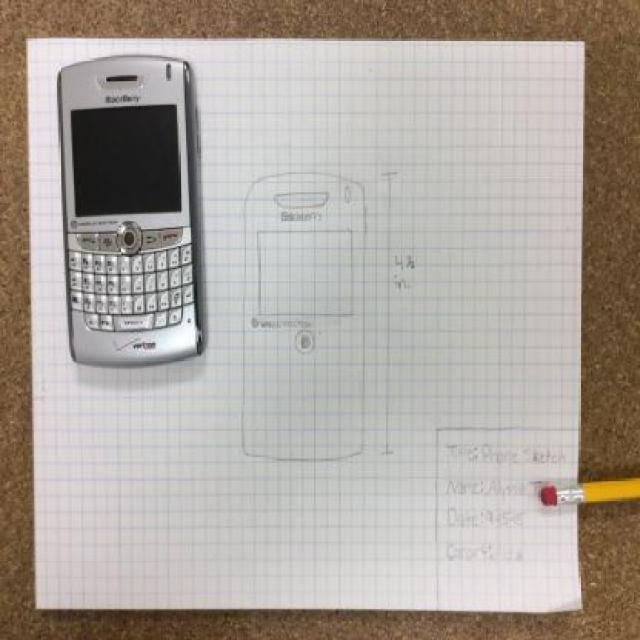phone: (50, 42, 202, 373), (242, 170, 364, 459)
